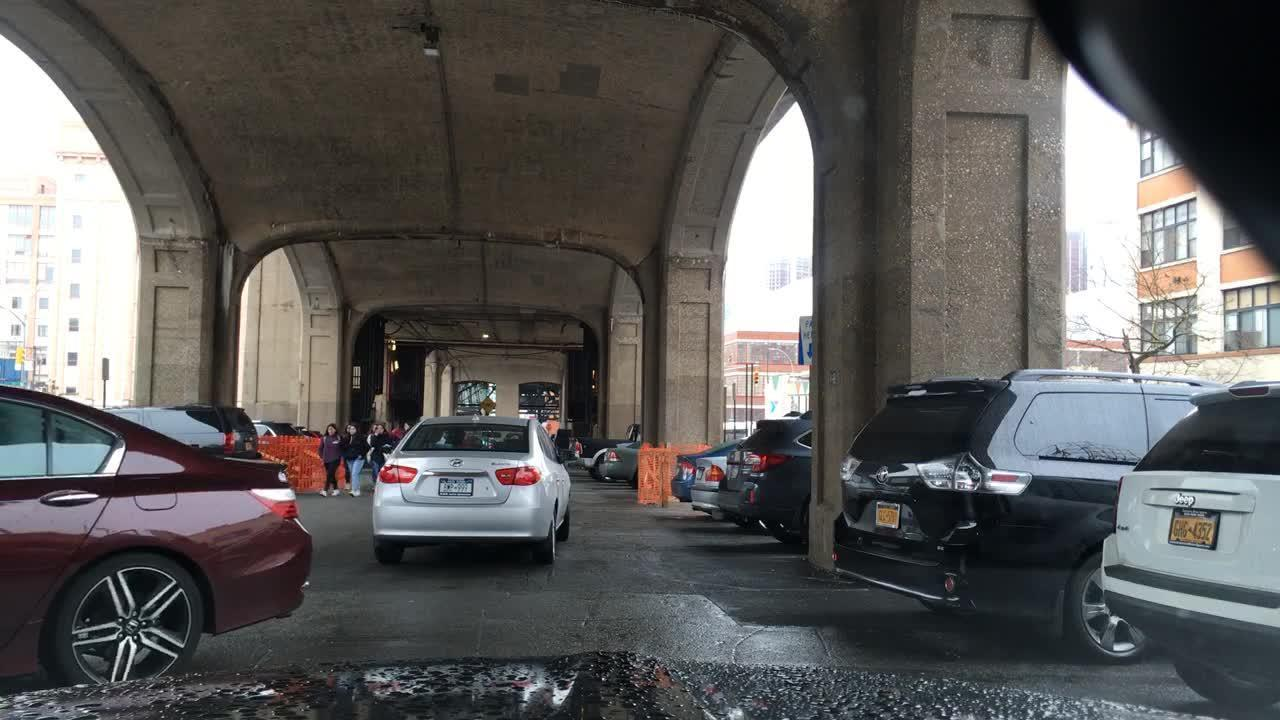Hyundai: (447, 454, 467, 470)
